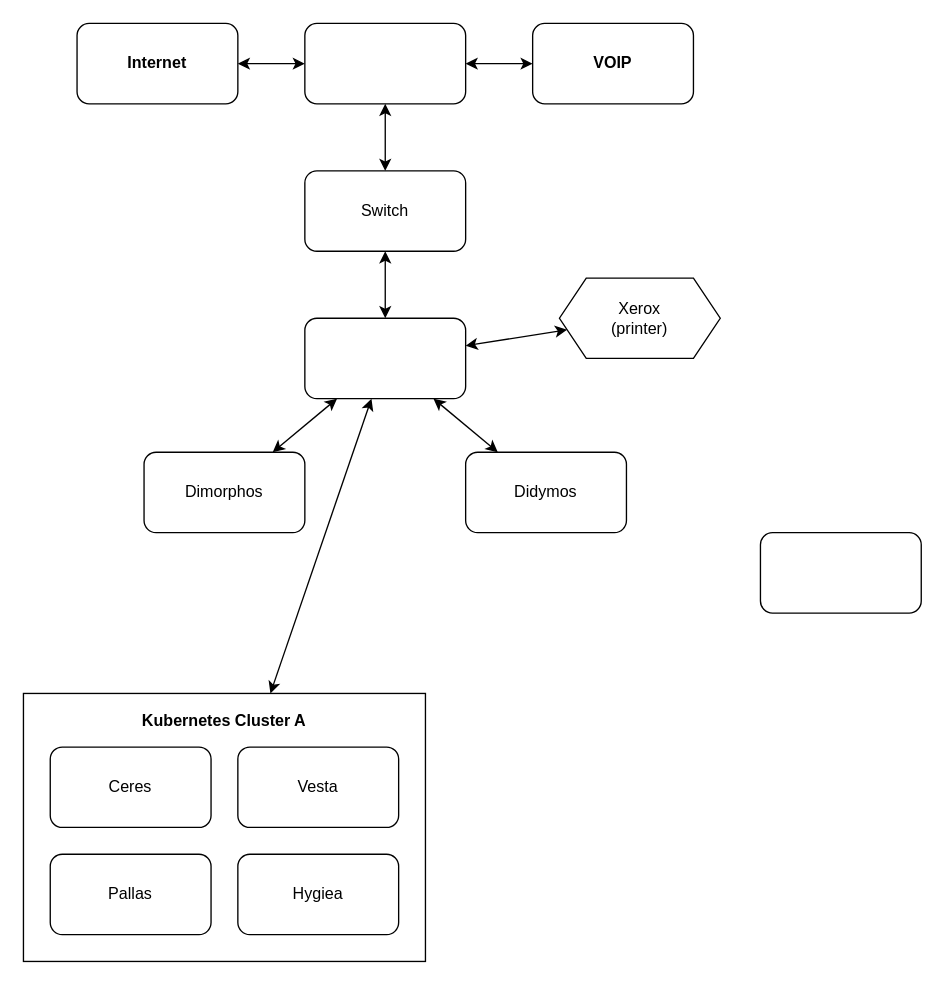
Image size: 945x985. Some labels were removed from this diagram. The centre of each missing label's shape, as x and y in pixels:
"Amplify (main router)" goes at pixel 385 63.
"Galatea" goes at pixel 840 572.
"Office" goes at pixel 385 358.
